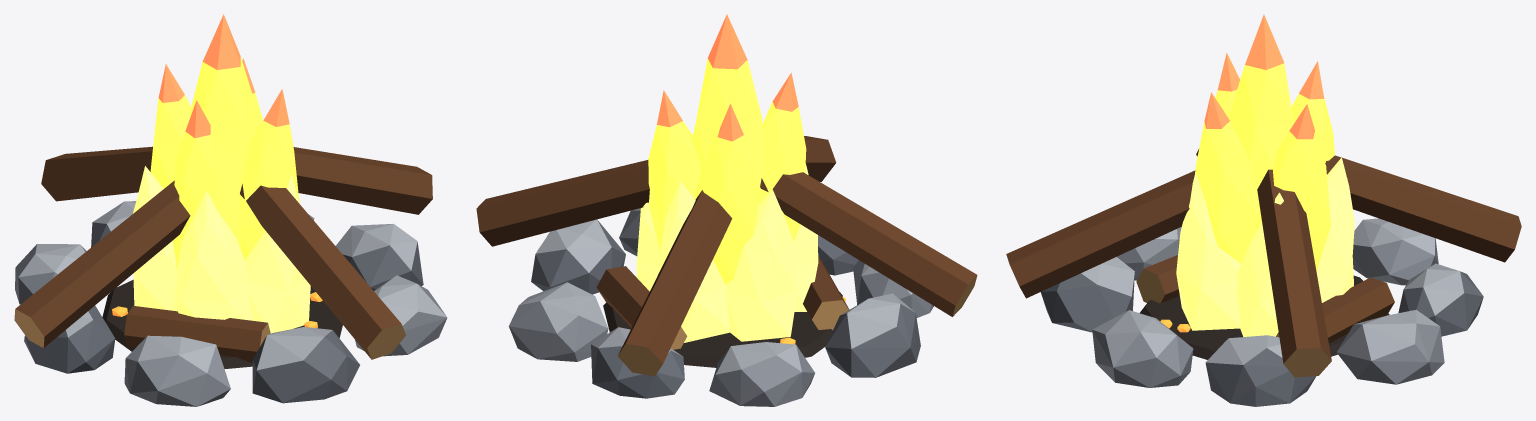
Rendered from Prop_Campfire.fbx.
3 views of the same model, side by side, from view 1: azimuth 30°, elevation 25°; view 2: azimuth 150°, elevation 25°; view 3: azimuth 270°, elevation 25° (orthographic).
Visible parts, largest first — view 1: Prop_Campfire; view 2: Prop_Campfire; view 3: Prop_Campfire.
Part boxes in pixels (x1=…): Prop_Campfire: x1=14, y1=14, x2=447, y2=406; Prop_Campfire: x1=476, y1=14, x2=977, y2=406; Prop_Campfire: x1=1006, y1=14, x2=1521, y2=406.
Bounding box in the file's own units: 1.48 × 0.95 × 1.48.
